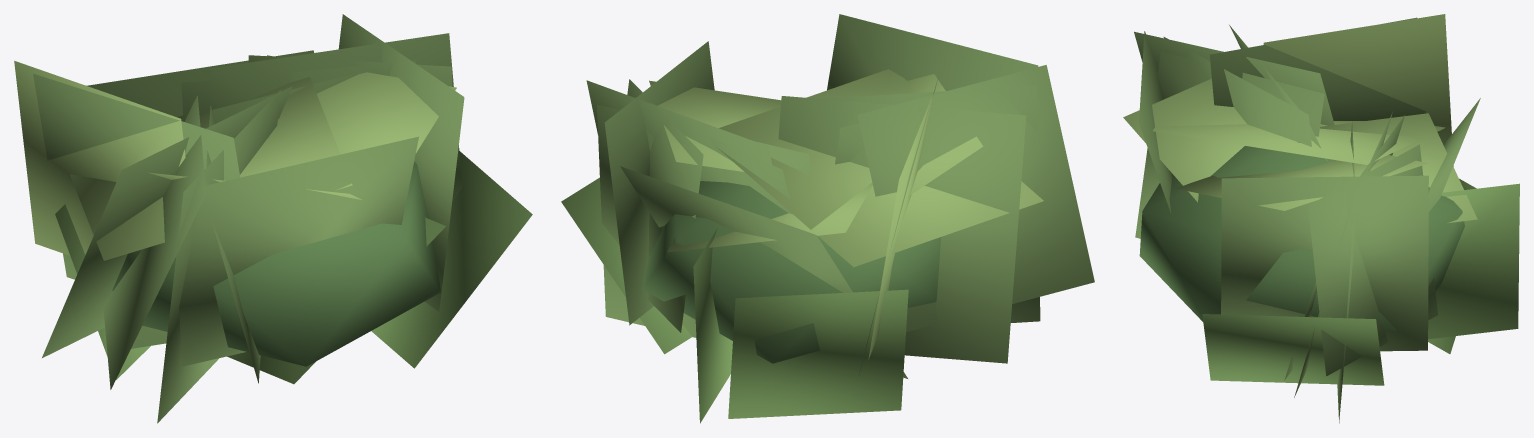
Rendered from bush.glb.
3 renders of one model, left to right at view 1: azimuth 30°, elevation 25°; view 2: azimuth 150°, elevation 25°; view 3: azimuth 270°, elevation 25°, orthographic. The views are drawn at different scales.
Parts seen in each view (by area): view 1: bush; view 2: bush; view 3: bush.
Boxes of the visible parts, box(x1,y1,x2,y2) form: bush: box(14, 14, 532, 423); bush: box(561, 14, 1094, 423); bush: box(1123, 14, 1519, 423).
Bounding box in the file's own units: 2.31 × 1.44 × 1.97.
